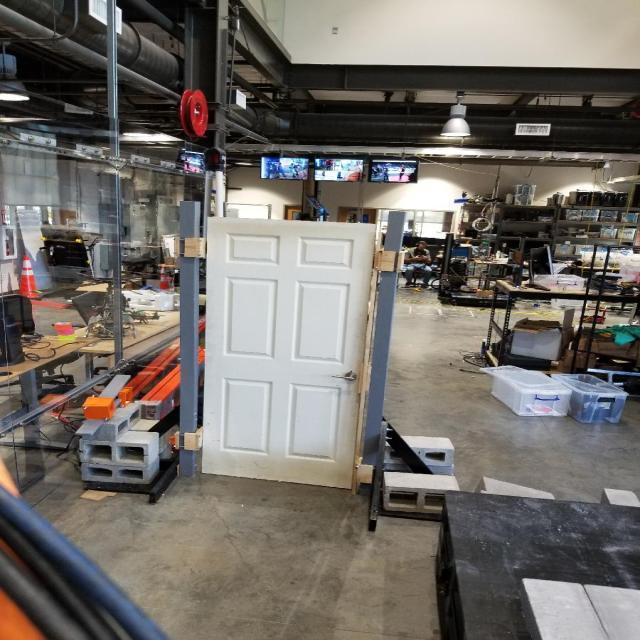door: (200, 212, 380, 498), (324, 364, 357, 384)
